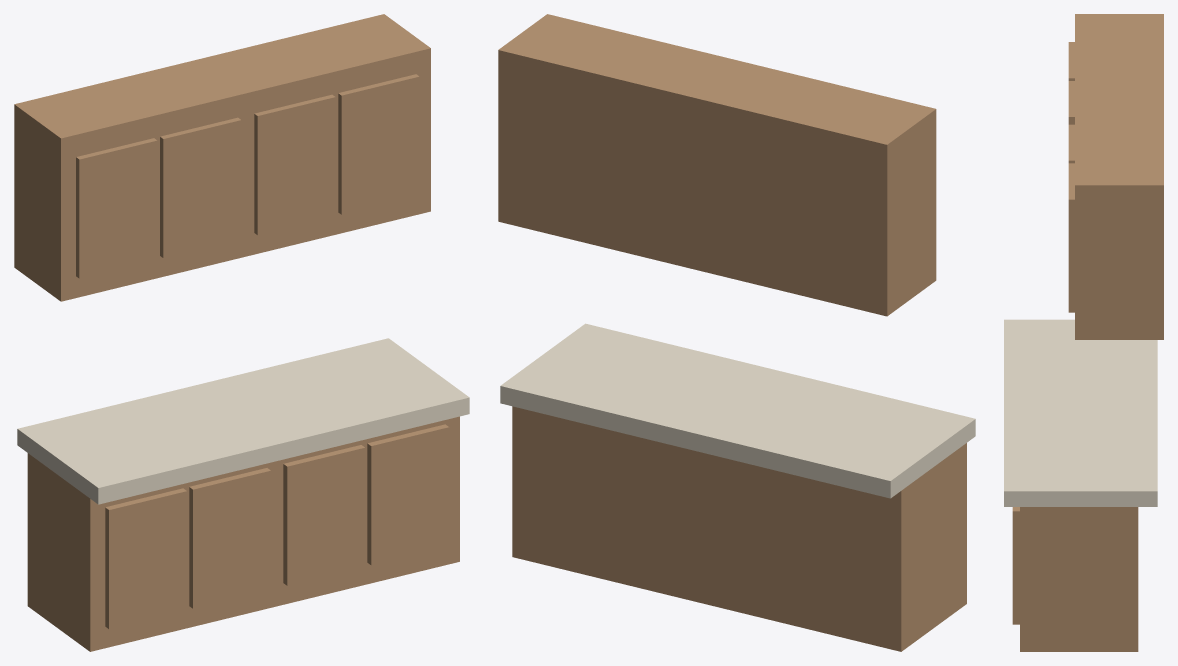
File: cabinets.fbx
3 views of the same model, side by side, from view 1: azimuth 30°, elevation 25°; view 2: azimuth 150°, elevation 25°; view 3: azimuth 270°, elevation 25° (orthographic). The views are drawn at different scales.
Parts seen in each view (by area): view 1: polySurface464, pasted__pasted__pCube120, polySurface447, polySurface467, polySurface470, polySurface465, polySurface469, polySurface450, polySurface456, polySurface458, polySurface448, polySurface457 (+7 smaller); view 2: polySurface464, polySurface447, pasted__pasted__pCube120; view 3: polySurface464, pasted__pasted__pCube120, polySurface447, polySurface471, polySurface459, polySurface475, polySurface468, polySurface466.
Part boxes in pixels (x1=…): polySurface464: x1=14, y1=14, x2=430, y2=301; pasted__pasted__pCube120: x1=17, y1=338, x2=469, y2=504; polySurface447: x1=27, y1=416, x2=459, y2=651; polySurface467: x1=165, y1=122, x2=240, y2=256; polySurface470: x1=259, y1=99, x2=334, y2=233; polySurface465: x1=81, y1=142, x2=156, y2=276; polySurface469: x1=343, y1=78, x2=418, y2=212; polySurface450: x1=195, y1=472, x2=269, y2=606; polySurface456: x1=289, y1=449, x2=363, y2=583; polySurface458: x1=373, y1=429, x2=447, y2=563; polySurface448: x1=111, y1=493, x2=185, y2=627; polySurface457: x1=283, y1=445, x2=365, y2=585; polySurface464: x1=498, y1=14, x2=936, y2=316; polySurface447: x1=512, y1=406, x2=966, y2=651; pasted__pasted__pCube120: x1=500, y1=323, x2=975, y2=498; polySurface464: x1=1075, y1=14, x2=1163, y2=339; pasted__pasted__pCube120: x1=1004, y1=319, x2=1157, y2=506; polySurface447: x1=1020, y1=507, x2=1138, y2=651; polySurface471: x1=1068, y1=163, x2=1074, y2=312; polySurface459: x1=1012, y1=507, x2=1019, y2=624; polySurface475: x1=1068, y1=81, x2=1074, y2=124; polySurface468: x1=1068, y1=124, x2=1074, y2=163; polySurface466: x1=1068, y1=42, x2=1074, y2=80.
Bounding box in the file's own units: 7.14 × 9.04 × 2.8.
